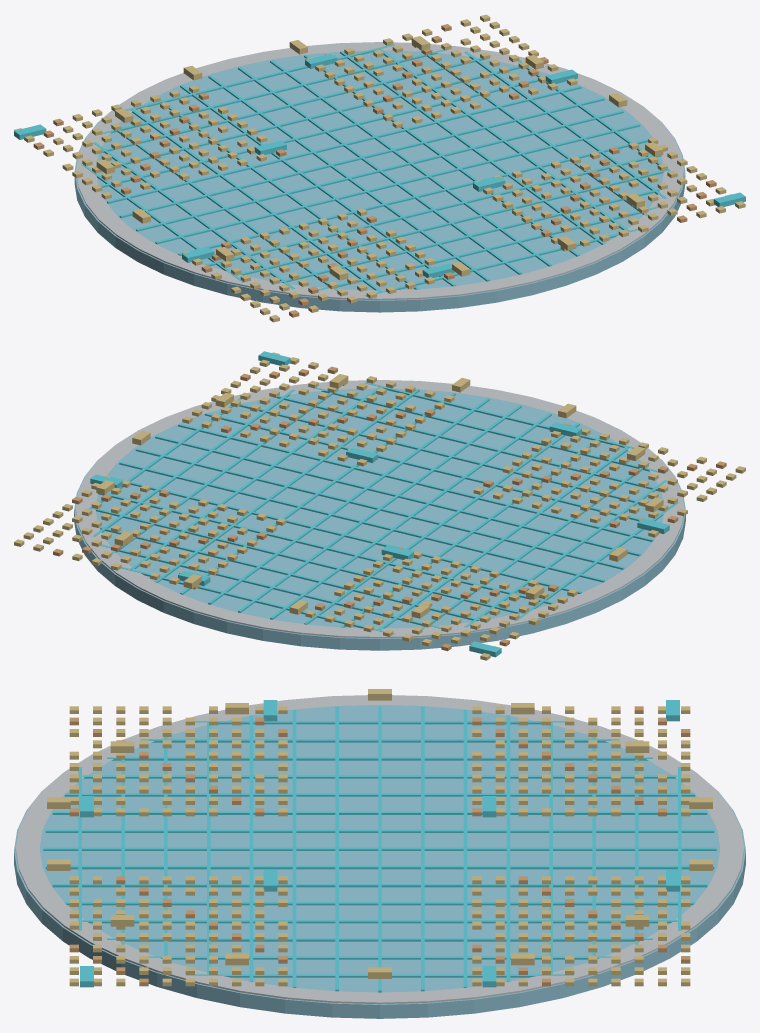
The model's file is 03_L79_BondReadyInterconnectWafer.glb.
3 views of the same model, one above another, from view 1: azimuth 30°, elevation 25°; view 2: azimuth 150°, elevation 25°; view 3: azimuth 270°, elevation 25° (orthographic). The views are drawn at different scales.
Visible parts, largest first — view 1: BondReadyInterconnectWafer_Node_0000, BondReadyInterconnectWafer_Node_0001, BondReadyInterconnectWafer_Node_0017, BondReadyInterconnectWafer_Node_0019, BondReadyInterconnectWafer_Node_0015, BondReadyInterconnectWafer_Node_0013, BondReadyInterconnectWafer_Node_0025, BondReadyInterconnectWafer_Node_0023, BondReadyInterconnectWafer_Node_0016, BondReadyInterconnectWafer_Node_0014, BondReadyInterconnectWafer_Node_0018, BondReadyInterconnectWafer_Node_0022 (+19 smaller); view 2: BondReadyInterconnectWafer_Node_0000, BondReadyInterconnectWafer_Node_0001, BondReadyInterconnectWafer_Node_0017, BondReadyInterconnectWafer_Node_0015, BondReadyInterconnectWafer_Node_0019, BondReadyInterconnectWafer_Node_0021, BondReadyInterconnectWafer_Node_0009, BondReadyInterconnectWafer_Node_0011, BondReadyInterconnectWafer_Node_0018, BondReadyInterconnectWafer_Node_0016, BondReadyInterconnectWafer_Node_0014, BondReadyInterconnectWafer_Node_0022 (+19 smaller); view 3: BondReadyInterconnectWafer_Node_0000, BondReadyInterconnectWafer_Node_0001, BondReadyInterconnectWafer_Node_0018, BondReadyInterconnectWafer_Node_0016, BondReadyInterconnectWafer_Node_0014, BondReadyInterconnectWafer_Node_0020, BondReadyInterconnectWafer_Node_0010, BondReadyInterconnectWafer_Node_0006, BondReadyInterconnectWafer_Node_0012, BondReadyInterconnectWafer_Node_0024, BondReadyInterconnectWafer_Node_0022, BondReadyInterconnectWafer_Node_0008 (+15 smaller).
Part boxes in pixels (x1=…): BondReadyInterconnectWafer_Node_0000: x1=74, y1=50, x2=685, y2=312; BondReadyInterconnectWafer_Node_0001: x1=76, y1=42, x2=683, y2=300; BondReadyInterconnectWafer_Node_0017: x1=136, y1=110, x2=623, y2=231; BondReadyInterconnectWafer_Node_0019: x1=155, y1=124, x2=640, y2=244; BondReadyInterconnectWafer_Node_0015: x1=119, y1=97, x2=604, y2=218; BondReadyInterconnectWafer_Node_0013: x1=107, y1=86, x2=581, y2=203; BondReadyInterconnectWafer_Node_0025: x1=236, y1=170, x2=666, y2=275; BondReadyInterconnectWafer_Node_0023: x1=205, y1=155, x2=661, y2=266; BondReadyInterconnectWafer_Node_0016: x1=238, y1=67, x2=521, y2=274; BondReadyInterconnectWafer_Node_0014: x1=208, y1=75, x2=489, y2=281; BondReadyInterconnectWafer_Node_0018: x1=270, y1=60, x2=551, y2=266; BondReadyInterconnectWafer_Node_0022: x1=340, y1=51, x2=605, y2=244; BondReadyInterconnectWafer_Node_0000: x1=74, y1=388, x2=685, y2=650; BondReadyInterconnectWafer_Node_0001: x1=75, y1=380, x2=684, y2=638; BondReadyInterconnectWafer_Node_0017: x1=135, y1=448, x2=624, y2=569; BondReadyInterconnectWafer_Node_0015: x1=119, y1=462, x2=604, y2=582; BondReadyInterconnectWafer_Node_0019: x1=155, y1=435, x2=640, y2=556; BondReadyInterconnectWafer_Node_0021: x1=178, y1=424, x2=653, y2=541; BondReadyInterconnectWafer_Node_0009: x1=92, y1=508, x2=523, y2=613; BondReadyInterconnectWafer_Node_0011: x1=98, y1=493, x2=554, y2=604; BondReadyInterconnectWafer_Node_0018: x1=208, y1=398, x2=489, y2=604; BondReadyInterconnectWafer_Node_0016: x1=238, y1=405, x2=521, y2=612; BondReadyInterconnectWafer_Node_0014: x1=270, y1=413, x2=551, y2=619; BondReadyInterconnectWafer_Node_0022: x1=154, y1=389, x2=419, y2=582; BondReadyInterconnectWafer_Node_0000: x1=14, y1=705, x2=745, y2=1018; BondReadyInterconnectWafer_Node_0001: x1=15, y1=695, x2=744, y2=1004; BondReadyInterconnectWafer_Node_0018: x1=45, y1=865, x2=714, y2=869; BondReadyInterconnectWafer_Node_0016: x1=43, y1=847, x2=716, y2=850; BondReadyInterconnectWafer_Node_0014: x1=45, y1=829, x2=714, y2=832; BondReadyInterconnectWafer_Node_0020: x1=52, y1=884, x2=707, y2=887; BondReadyInterconnectWafer_Node_0010: x1=64, y1=793, x2=695, y2=796; BondReadyInterconnectWafer_Node_0006: x1=107, y1=757, x2=652, y2=760; BondReadyInterconnectWafer_Node_0012: x1=52, y1=811, x2=707, y2=814; BondReadyInterconnectWafer_Node_0024: x1=82, y1=920, x2=677, y2=923; BondReadyInterconnectWafer_Node_0022: x1=64, y1=902, x2=695, y2=905; BondReadyInterconnectWafer_Node_0008: x1=82, y1=775, x2=677, y2=778.
Size of the model in its own units: 2 by 0.101 by 2.
